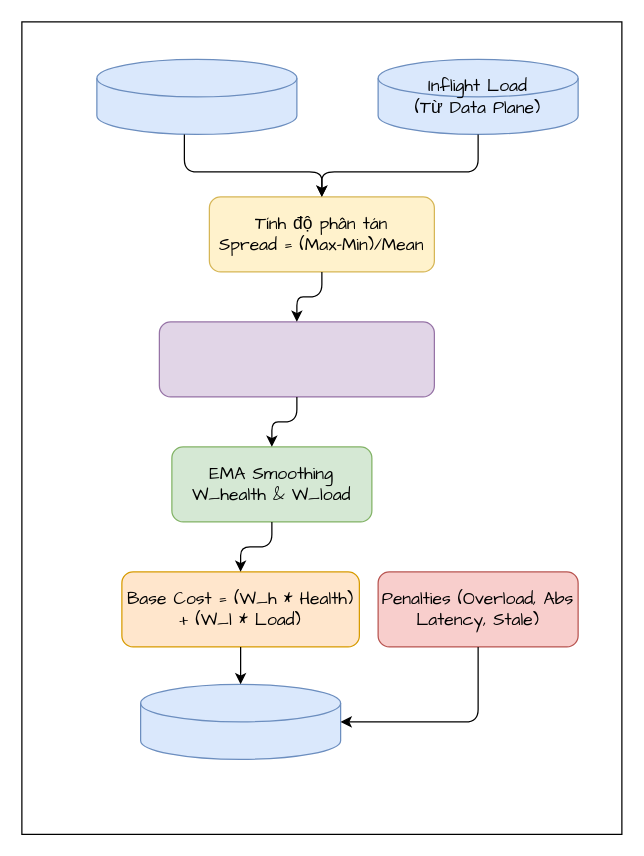
Image size: 644x856. Some labels were removed from this diagram. Here are the shapes that lost their labels. From the top down, the centre of each, then its label:
the point at 196,96: Health Score (Từ Control Plane)
the point at 296,359: Target Weight & Clamp W_target = S_health/(S_health+S_load+ε)
the point at 240,721: Final Routing Cost Cost + Σ Penalties
